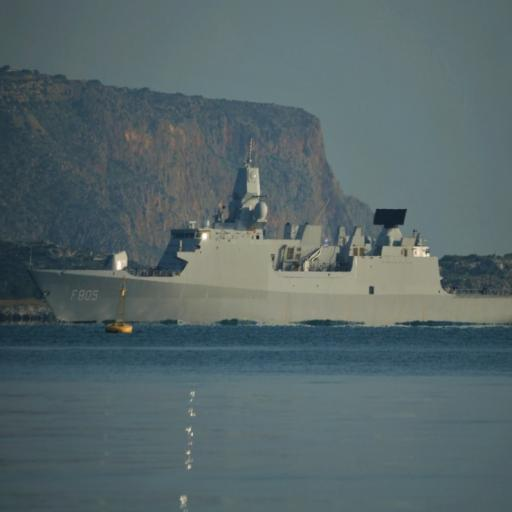Fragata: (22, 148, 512, 330)
